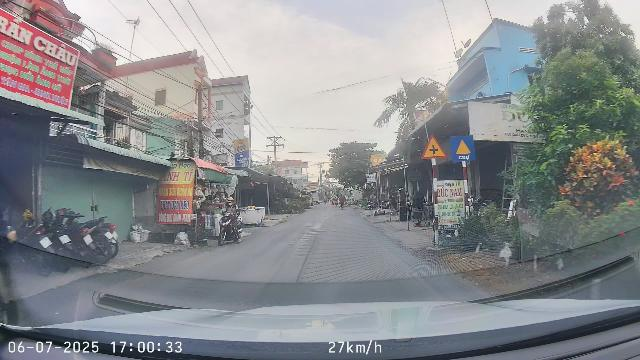442-cho: (449, 136, 475, 161)
